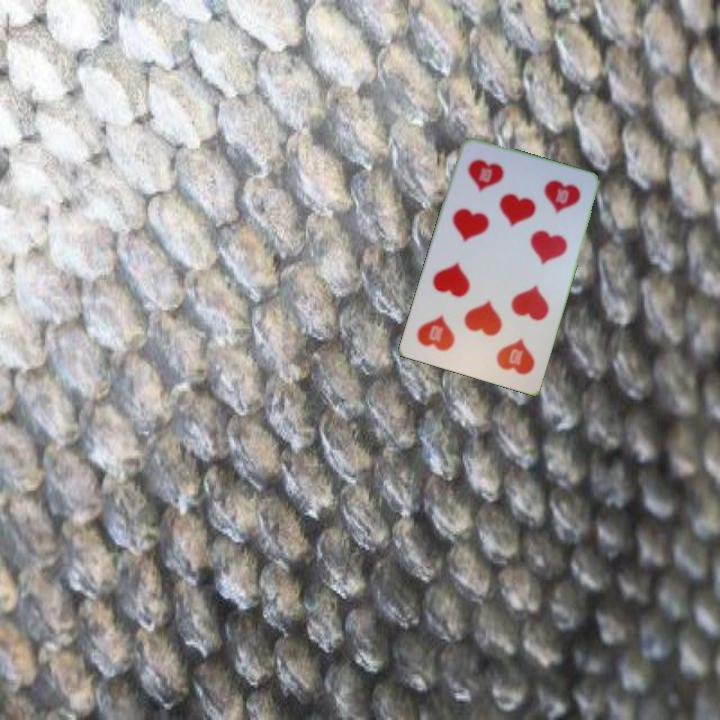h_10.png: (468, 310, 547, 384), (453, 146, 533, 219)
